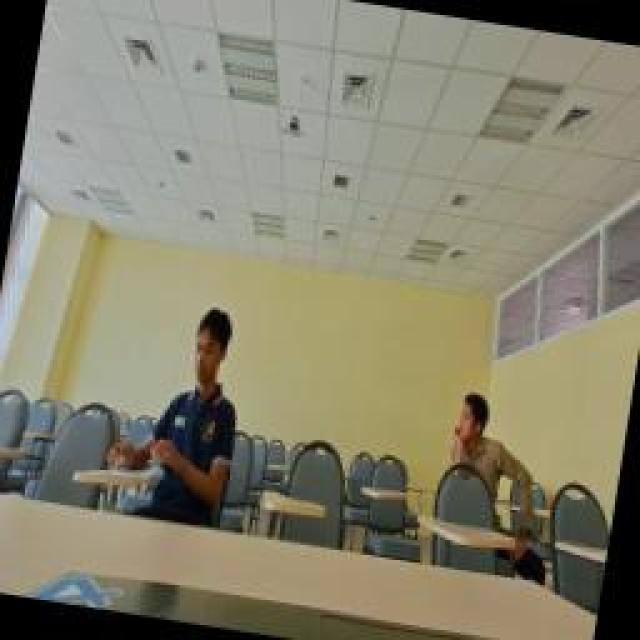study: (100, 292, 255, 532), (435, 390, 527, 545)
